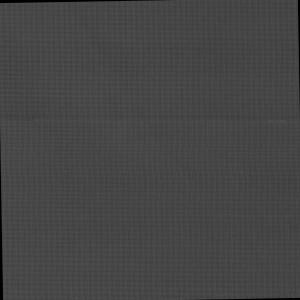Wrinkle: (46, 1, 249, 224), (1, 98, 300, 133)
